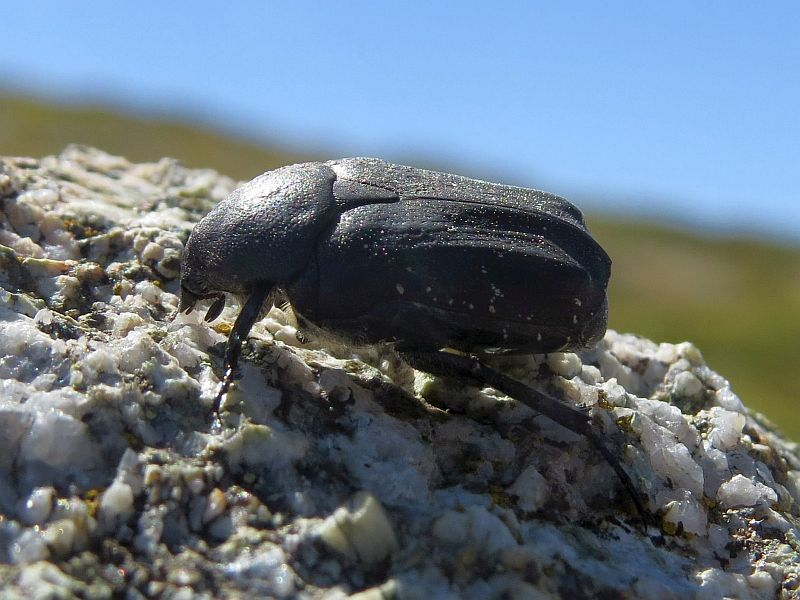Protaetia_morio_morio: (170, 153, 690, 531)
